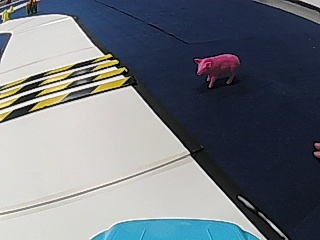bump: (3, 66, 113, 111)
